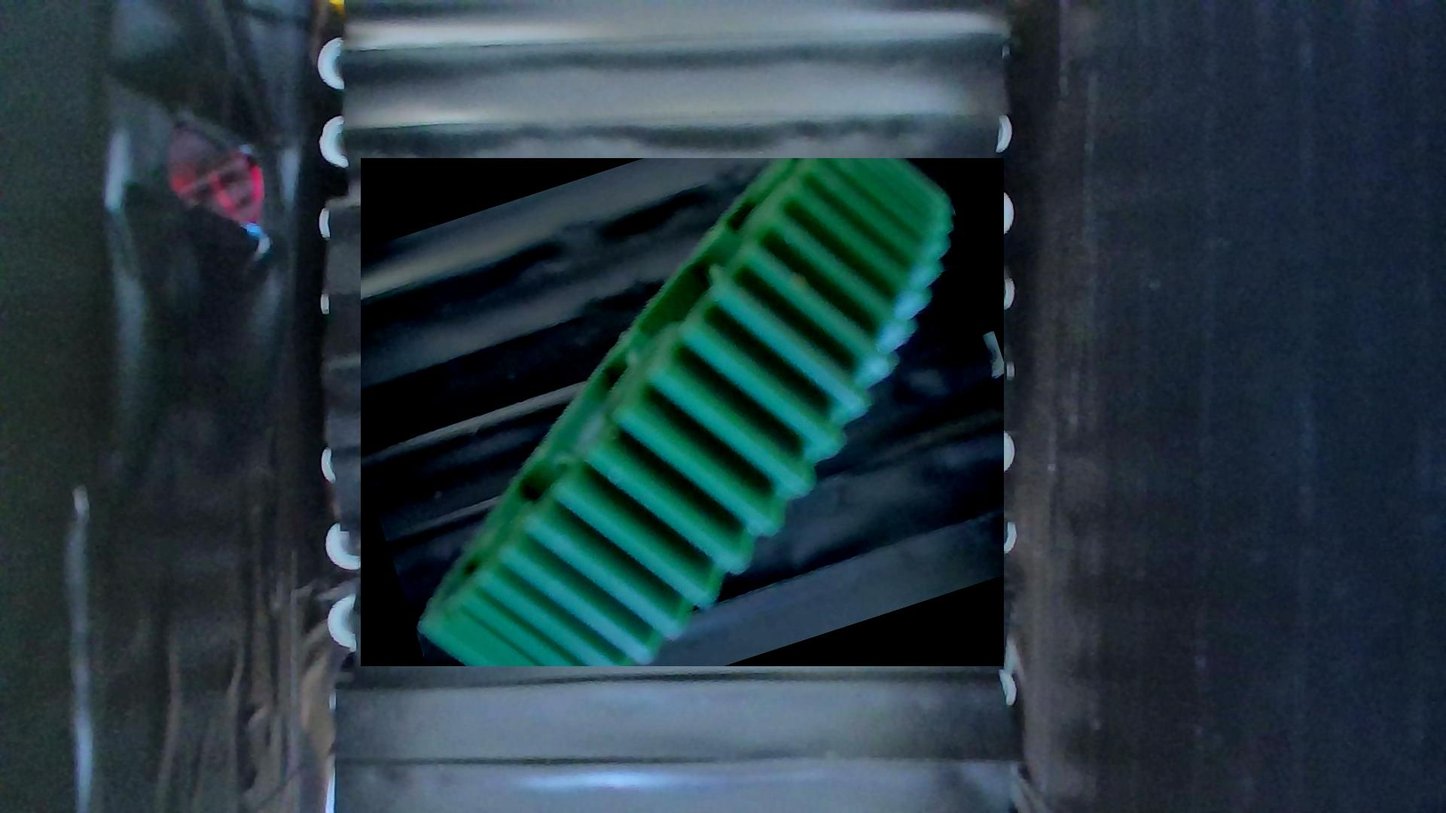gear: (361, 158, 1004, 666)
